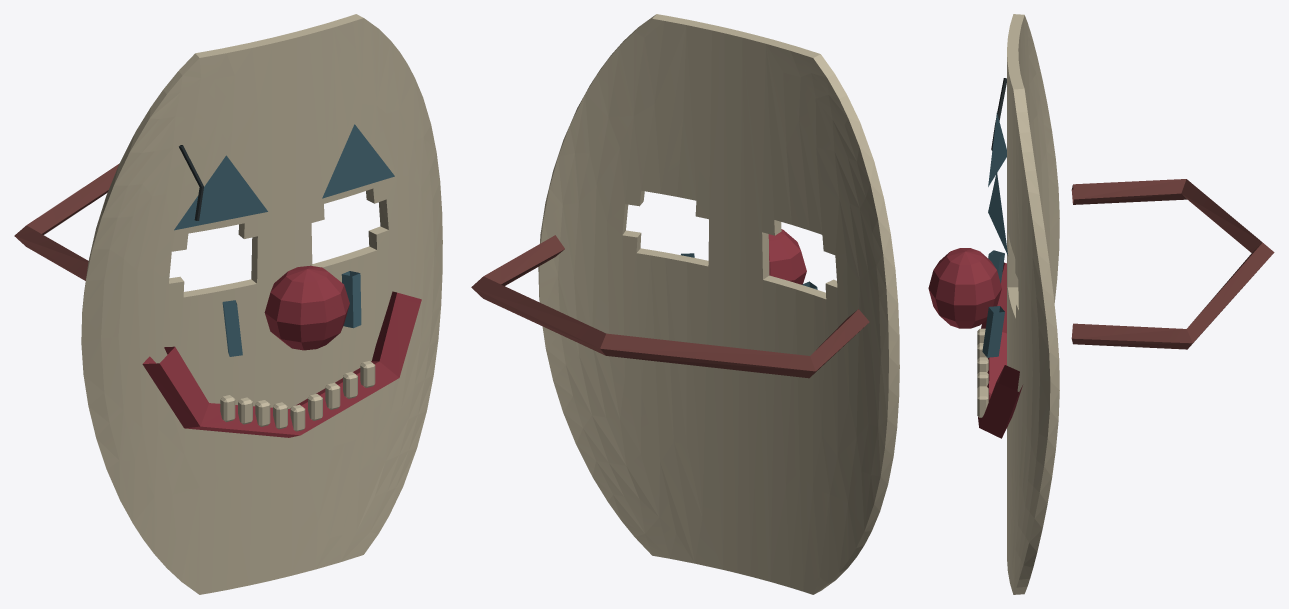
File: clown_mask.glb
3 renders of one model, left to right at view 1: azimuth 30°, elevation 25°; view 2: azimuth 150°, elevation 25°; view 3: azimuth 270°, elevation 25°, orthographic. The views are drawn at different scales.
Parts seen in each view (by area): view 1: clown_mask; view 2: clown_mask; view 3: clown_mask.
Part boxes in pixels (x1,y1,x2,y2): clown_mask: (14,14,442,594); clown_mask: (471,14,899,594); clown_mask: (928,14,1274,594).
Bounding box in the file's own units: 0.31 × 0.44 × 0.273.
